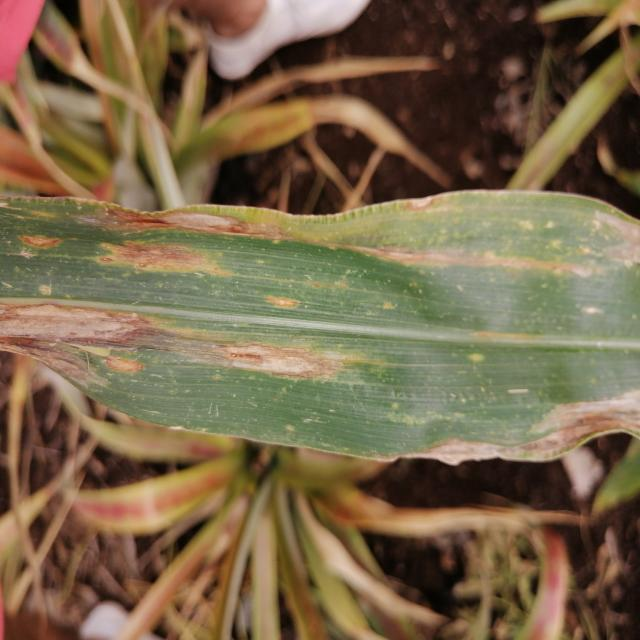Corn_Leaf_Blight: (0, 183, 640, 462)
